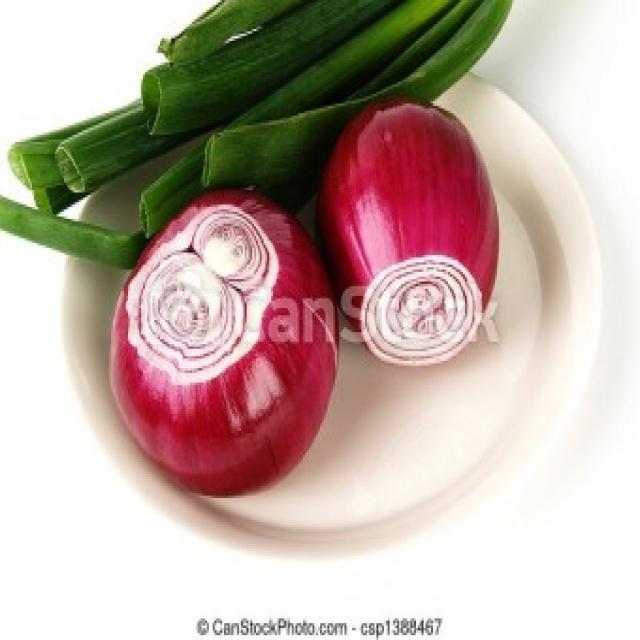Onion: (97, 178, 340, 510), (338, 92, 514, 376)
